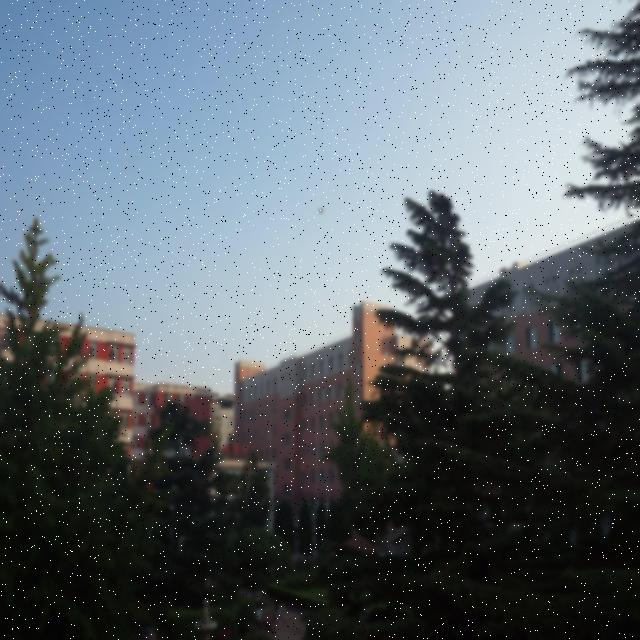UAV: (318, 207, 324, 215)
